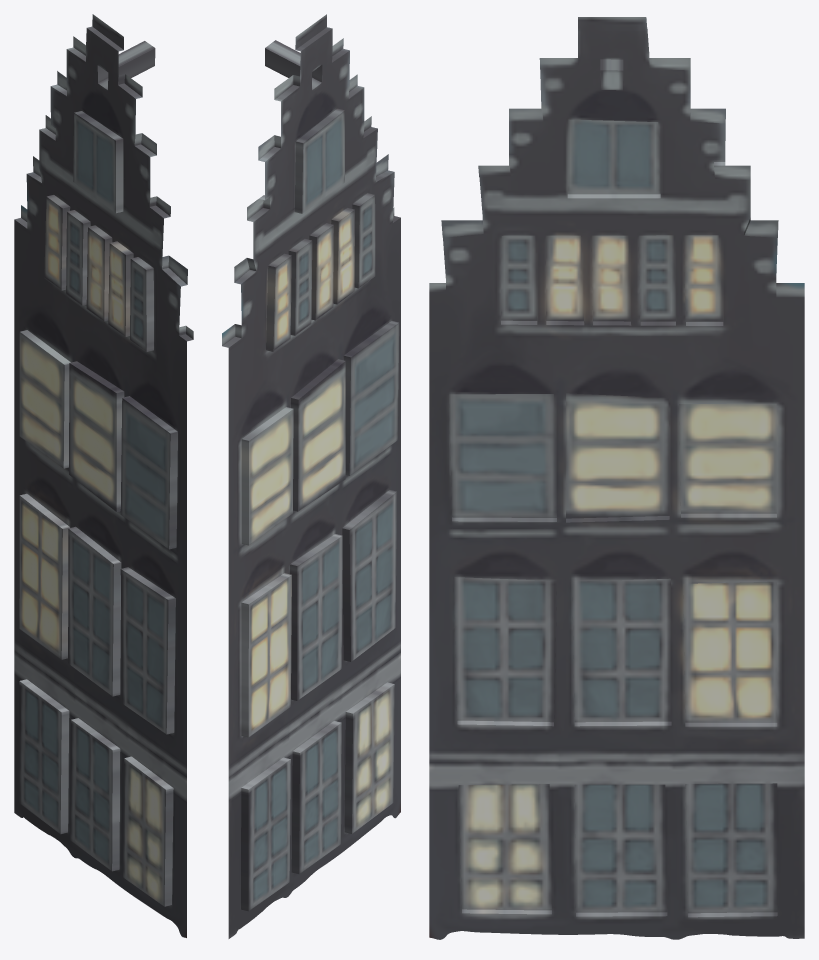
The model's file is Mesh_Exterior_House3.fbx.
3 renders of one model, left to right at view 1: azimuth 30°, elevation 25°; view 2: azimuth 150°, elevation 25°; view 3: azimuth 270°, elevation 25°, orthographic. The views are drawn at different scales.
Visible parts, largest first — view 1: House3; view 2: House3; view 3: House3.
Boxes of the visible parts, x1=… form: House3: x1=14, y1=14, x2=193, y2=937; House3: x1=222, y1=14, x2=400, y2=938; House3: x1=429, y1=17, x2=804, y2=939.
Bounding box in the file's own units: 37.95 × 570 × 208.
